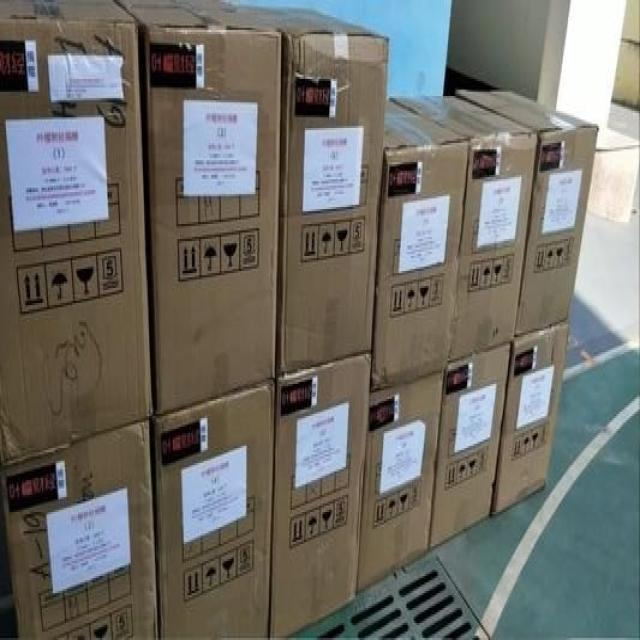box: (0, 1, 153, 465), (116, 0, 281, 414), (236, 6, 389, 371), (391, 96, 537, 360), (456, 90, 600, 335), (2, 416, 158, 638), (149, 379, 275, 638), (368, 99, 469, 392), (268, 352, 371, 638), (357, 370, 444, 592), (429, 342, 510, 547), (492, 319, 571, 512)
